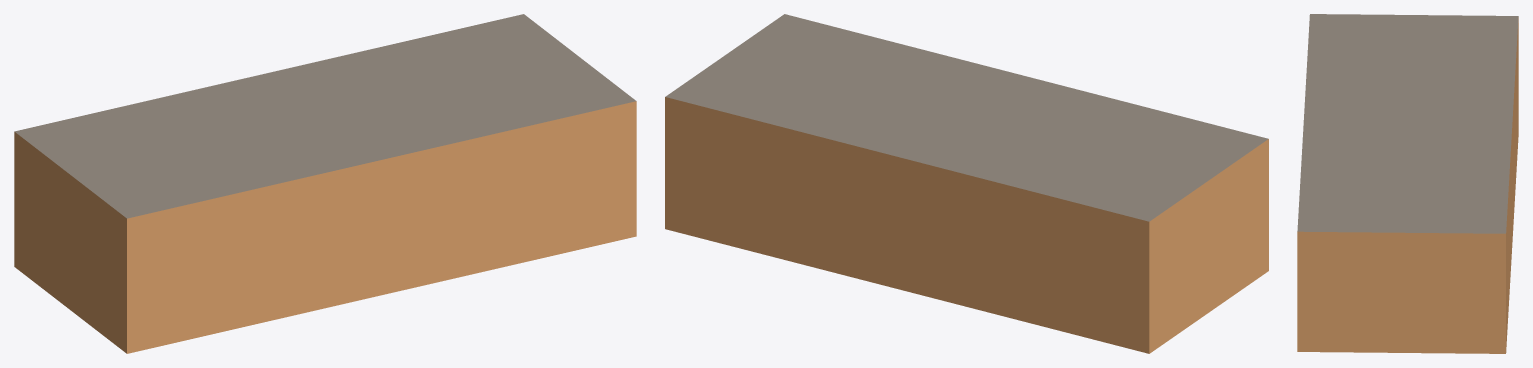
The picture shows the model from 3 angles, left to right: view 1: azimuth 30°, elevation 25°; view 2: azimuth 150°, elevation 25°; view 3: azimuth 270°, elevation 25°; orthographic projection. The views are drawn at different scales.
Visible parts, largest first — view 1: element.014; view 2: element.014; view 3: element.014.
Boxes of the visible parts, x1,y1,x2,y2 form: element.014: (14,14,636,353); element.014: (665,14,1268,353); element.014: (1297,14,1518,353).
Bounding box in the file's own units: 18.59 × 4.74 × 7.9.
